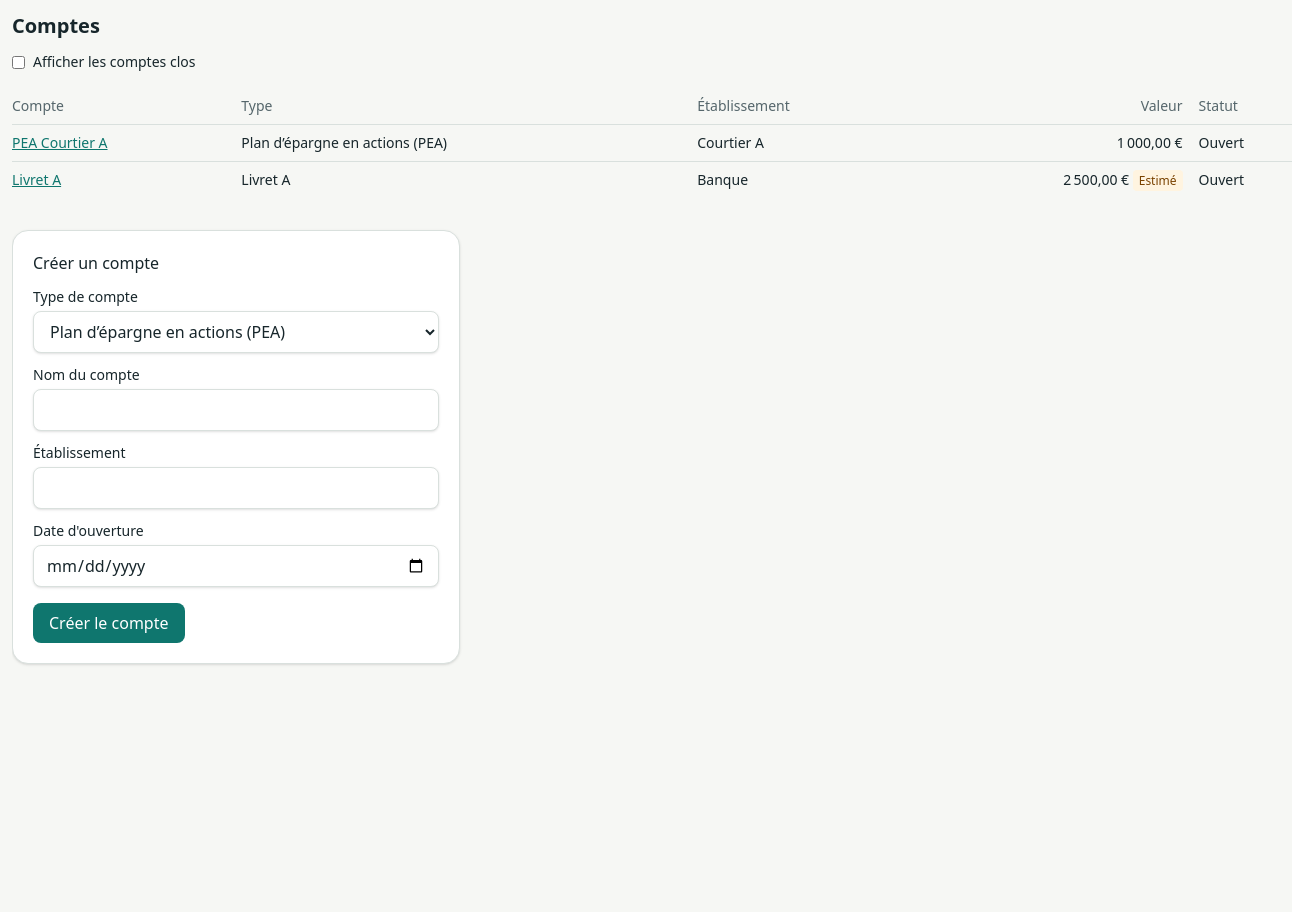
Test: création d’un compte › exige un nom et une date d’ouverture
The width and height of the screenshot is (1292, 912).
Check: the table named "Comptes" is shown, box [12,88,1291,198]
Click the button "Créer le compte": (109,623) [33,603,184,643]
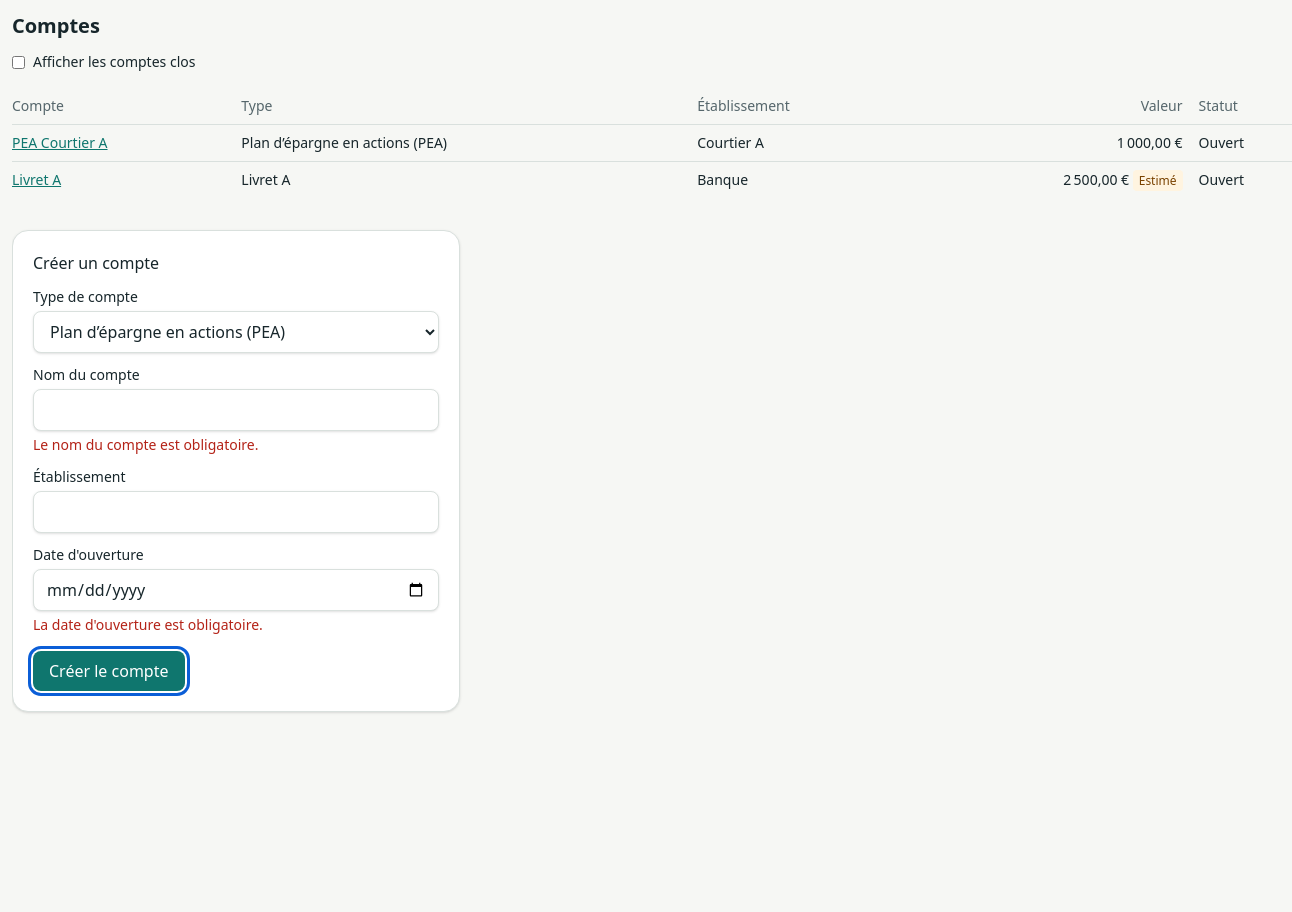
Check: the text "Le nom du compte est obligatoire." is shown, box [33,435,258,454]
Check: the text "La date d'ouverture est obligatoire." is shown, box [33,615,263,634]
